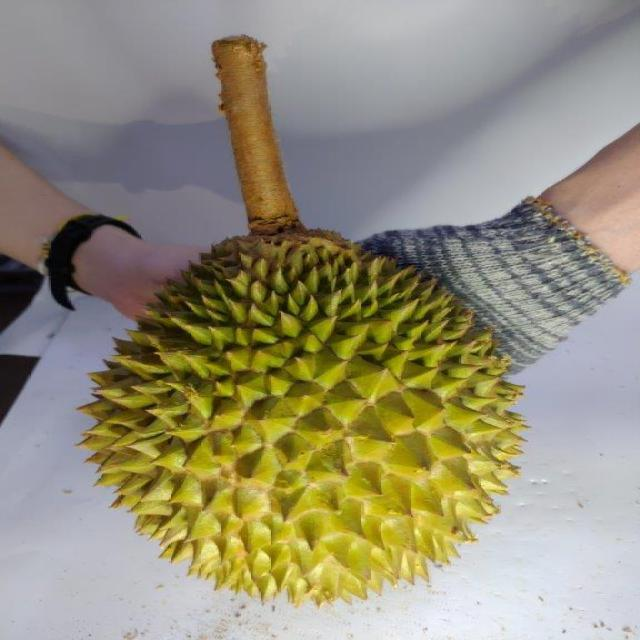immature: (80, 226, 534, 608)
